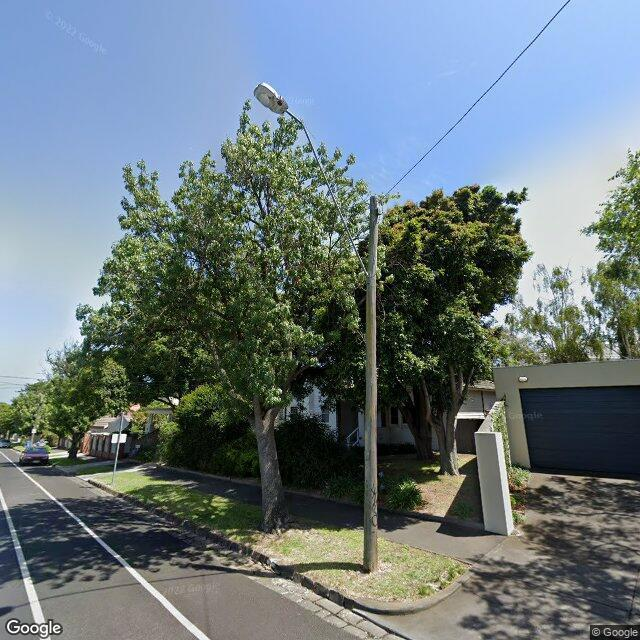streetlight: (253, 81, 370, 278)
timber-pole: (363, 195, 379, 575)
